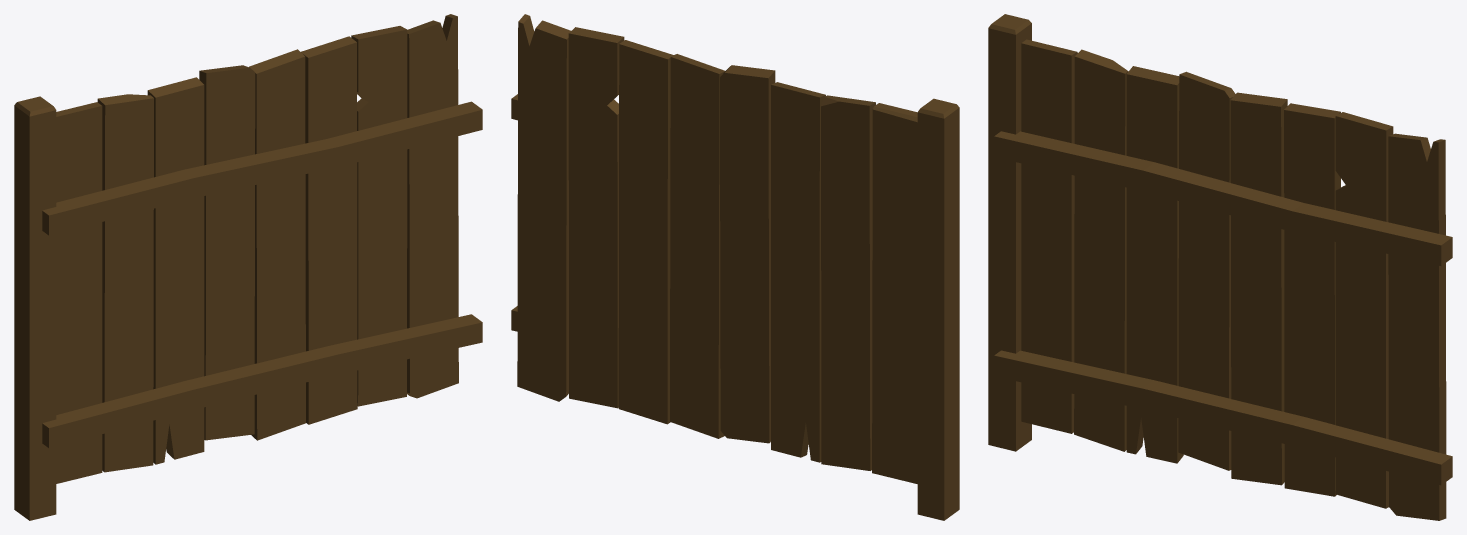
The model's file is Fence.fbx.
The picture shows the model from 3 angles, left to right: view 1: azimuth 30°, elevation 25°; view 2: azimuth 150°, elevation 25°; view 3: azimuth 330°, elevation 25°; orthographic projection. The views are drawn at different scales.
Visible parts, largest first — view 1: Fence1; view 2: Fence1; view 3: Fence1.
Boxes of the visible parts, left/top/right/bottom form: Fence1: left=14, top=14, right=482, bottom=520; Fence1: left=511, top=14, right=959, bottom=520; Fence1: left=988, top=14, right=1452, bottom=520.
Size of the model in its own units: 191 by 167 by 16.52.
